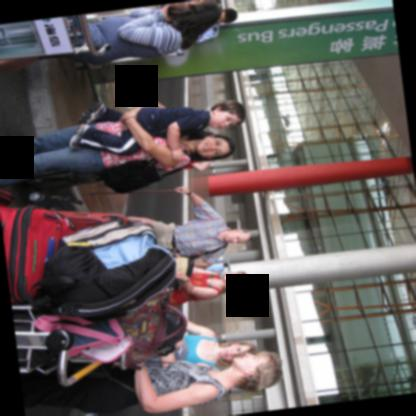backpack: (42, 220, 177, 322)
handbag: (118, 288, 185, 362), (86, 360, 213, 392), (97, 160, 187, 195), (173, 256, 194, 277)
suitcase: (0, 203, 75, 305), (51, 210, 127, 234)
